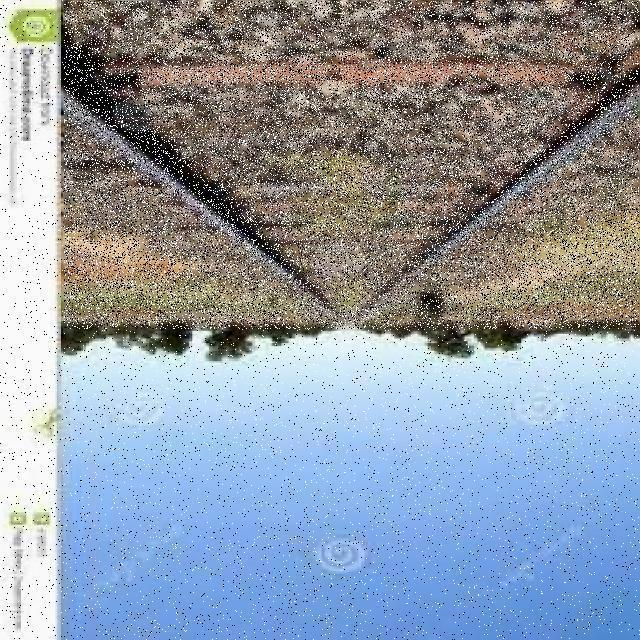rail: (65, 2, 640, 330)
